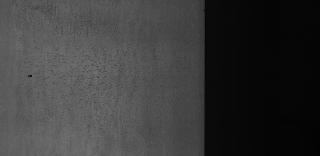inclusion: (26, 67, 38, 81)
silk spot: (43, 18, 154, 126)
